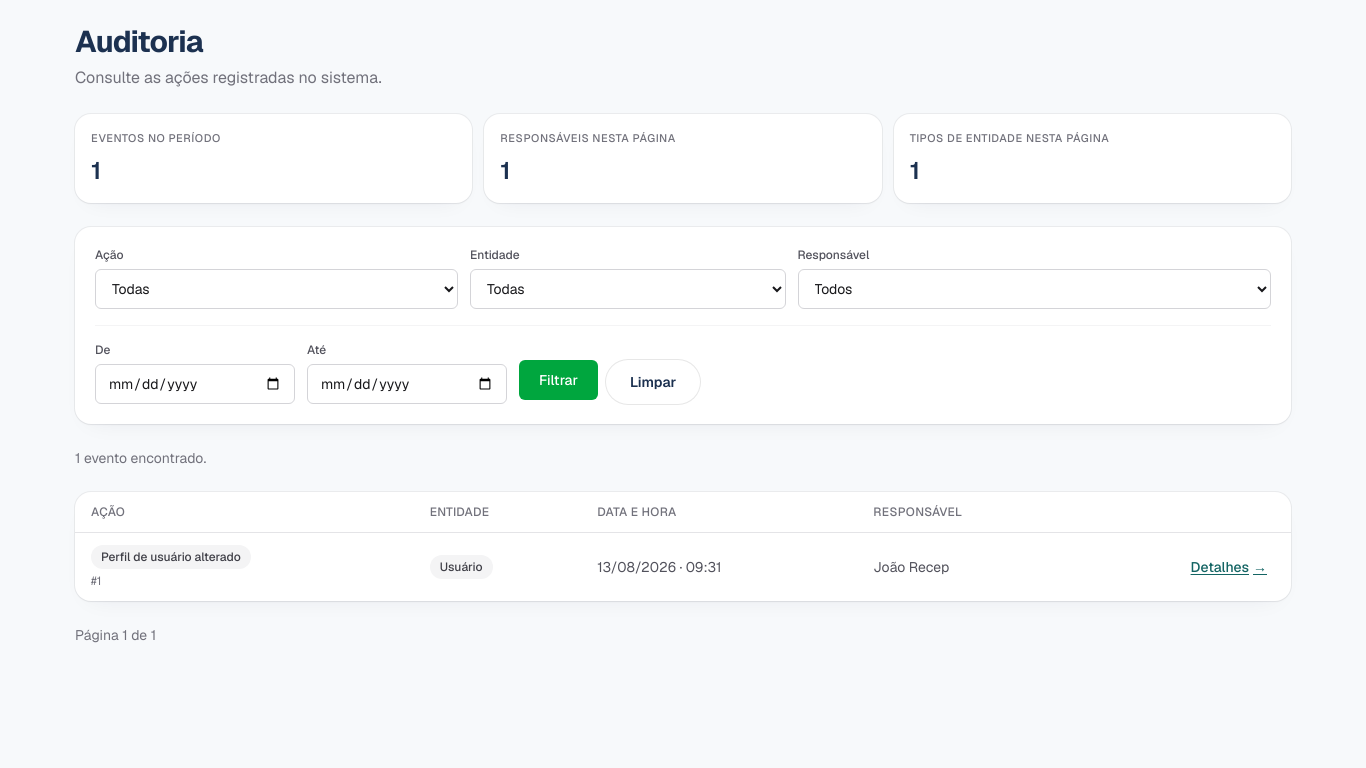
it: AuditoriaView — detalhes do evento › evento sem dados mostra aviso em vez de tabela vazia
Click the button "Detalhes →" at (1229, 566), box [1183,552,1275,580]
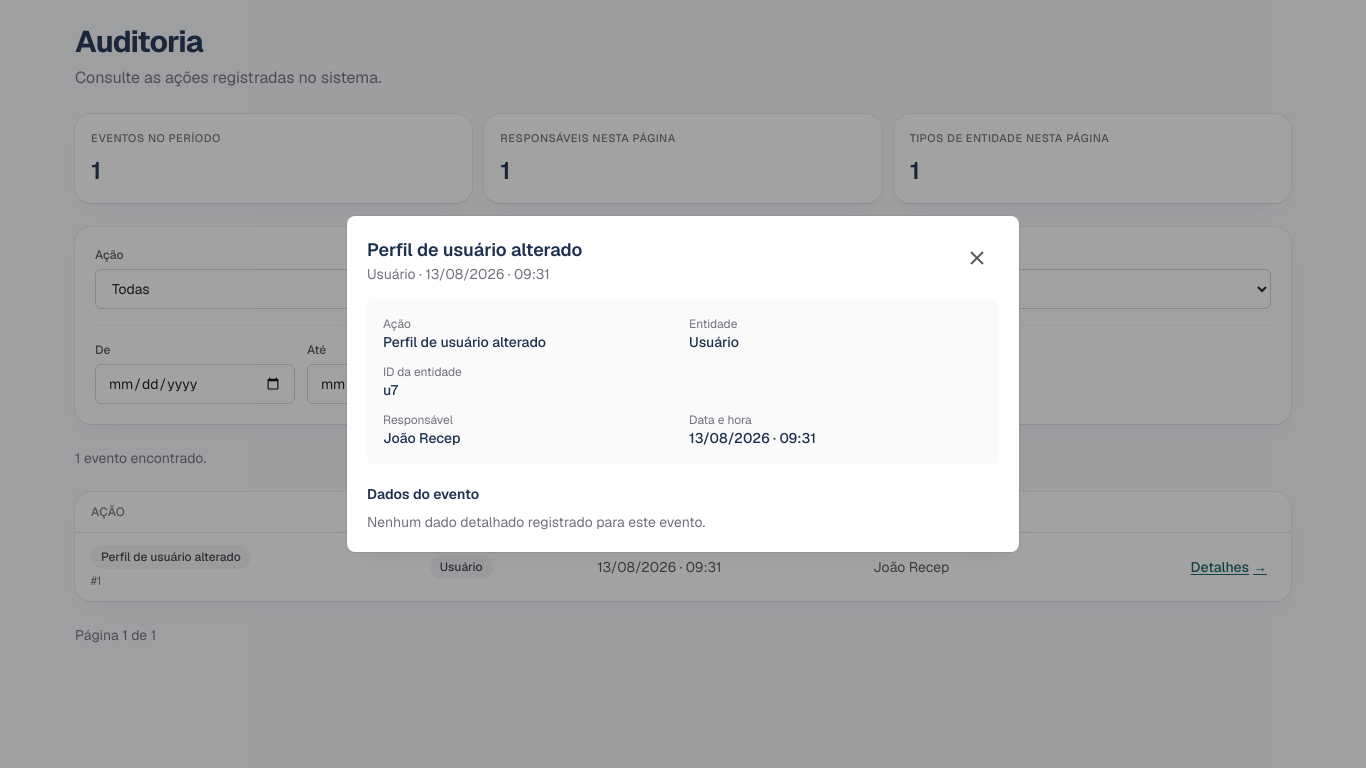
Now the text "Nenhum dado detalhado registrado para este evento." is shown, box [367,513,705,531]
